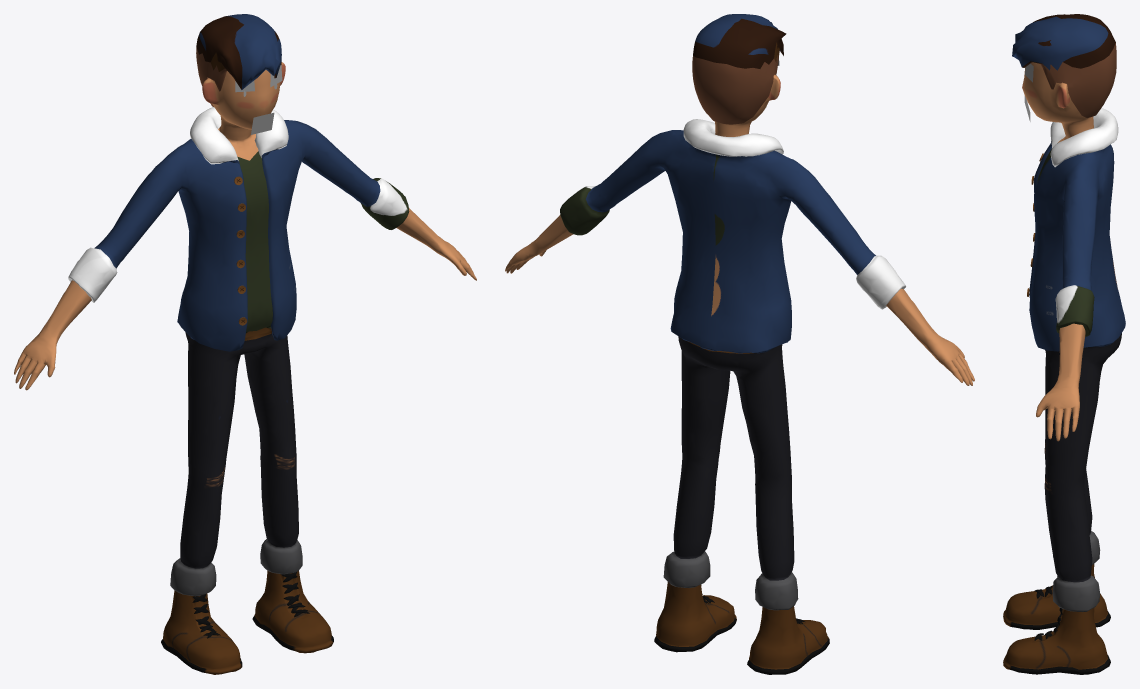
The model's file is jace3.fbx.
The picture shows the model from 3 angles, left to right: view 1: azimuth 30°, elevation 25°; view 2: azimuth 150°, elevation 25°; view 3: azimuth 270°, elevation 25°; orthographic projection.
Parts seen in each view (by area): view 1: polySurface29; view 2: polySurface29; view 3: polySurface29.
Boxes of the visible parts, left/top/right/bottom form: polySurface29: left=14, top=14, right=476, bottom=674; polySurface29: left=505, top=14, right=974, bottom=674; polySurface29: left=1003, top=14, right=1125, bottom=674.
Bounding box in the file's own units: 131 × 169 × 30.24.
